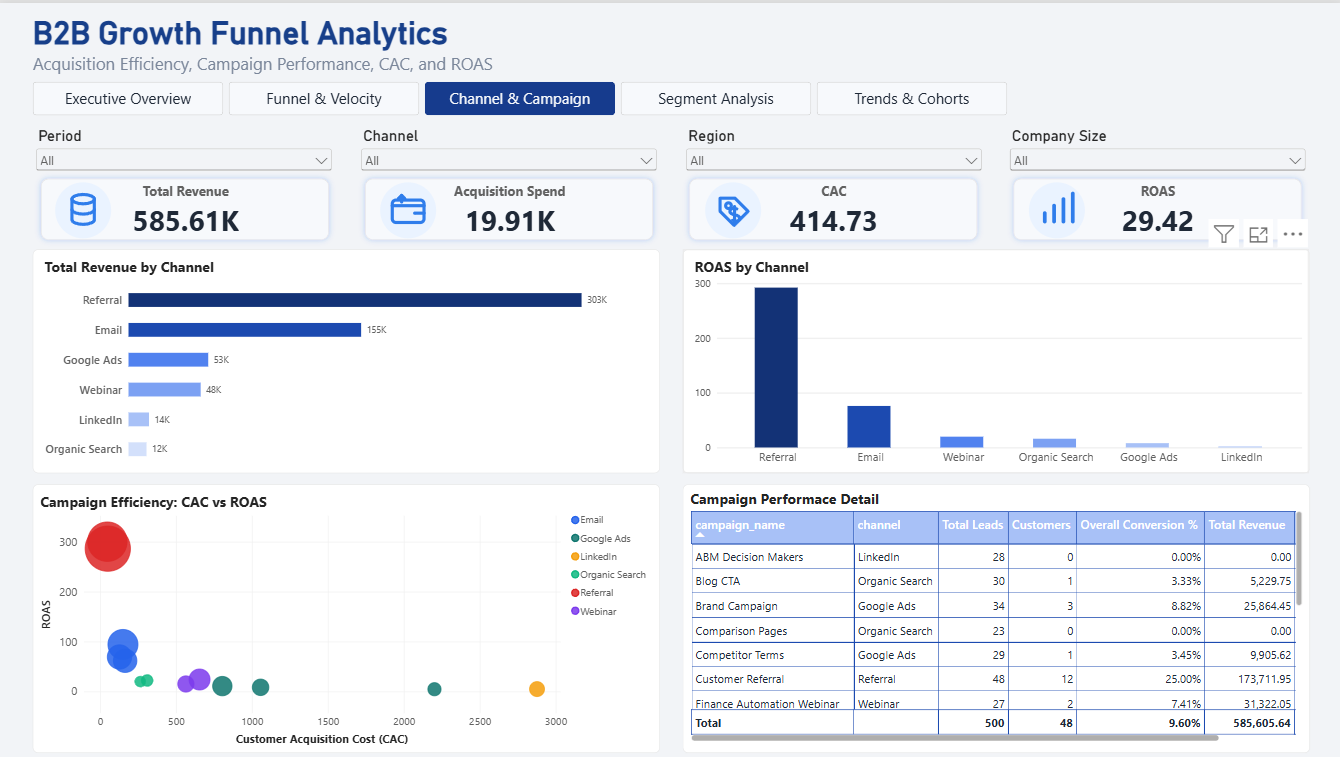

Layout of this report page (visuals, bound fields, positions):
{"tool":"powerbi","page":{"name":"Channel & Campaign","canvas":[1920,1080],"ordinal":2},"visuals":[{"type":"slicer","fields":{"Values":["Date.Year Month"]},"box":[48,176,432,80],"z":0},{"type":"slicer","fields":{"Values":["Lead Funnel.channel"]},"box":[512,176,432,80],"z":1000},{"type":"slicer","fields":{"Values":["Lead Funnel.region"]},"box":[976,176,432,80],"z":2000},{"type":"slicer","fields":{"Values":["Lead Funnel.company_size"]},"box":[1440,176,432,80],"z":3000},{"type":"textbox","title":"B2B Growth Funnel Analytics","box":[48,16,752,112],"z":4000},{"type":"pageNavigator","box":[48,112,1392,48],"z":5000},{"type":"cardVisual","fields":{"Data":["Lead Funnel.Total Revenue","Lead Funnel.Acquisition Spend","Lead Funnel.CAC","Lead Funnel.ROAS"]},"box":[48,240,1824,112],"z":6000},{"type":"clusteredBarChart","title":"Total Revenue by Channel","fields":{"Category":["Lead Funnel.channel"],"Y":["Lead Funnel.Total Revenue"]},"box":[48,352,896,320],"z":7000},{"type":"clusteredColumnChart","title":"ROAS by Channel","fields":{"Category":["Lead Funnel.channel"],"Y":["Lead Funnel.ROAS"]},"box":[976,352,896,320],"z":8000},{"type":"scatterChart","title":"Campaign Efficiency: CAC vs ROAS","fields":{"Category":["Lead Funnel.campaign_name"],"Series":["Lead Funnel.channel"],"Size":["Lead Funnel.Total Revenue"],"X":["Lead Funnel.CAC"],"Y":["Lead Funnel.ROAS"]},"box":[48,688,896,384],"z":9000},{"type":"tableEx","title":"Campaign Performace Detail","fields":{"Values":["Lead Funnel.campaign_name","Lead Funnel.channel","Lead Funnel.Total Leads","Lead Funnel.Customers","Lead Funnel.Overall Conversion %","Lead Funnel.Total Revenue","Lead Funnel.CAC","Lead Funnel.ROAS"]},"box":[976,688,896,384],"z":10000},{"type":"image","box":[1440,248,144,96],"z":10003},{"type":"image","box":[976,248,144,96],"z":10004},{"type":"image","box":[512,248,144,96],"z":10005},{"type":"image","box":[48,248,144,96],"z":10006}]}

Visuals, with their boxes in screenshot pixels (x1, y1, x2, y2), scaled from the page's 1920x1080 canvas onto the 1340x757 screenshot:
slicer - Date.Year Month: x1=34 y1=123 x2=335 y2=179
slicer - Lead Funnel.channel: x1=357 y1=123 x2=659 y2=179
slicer - Lead Funnel.region: x1=681 y1=123 x2=983 y2=179
slicer - Lead Funnel.company_size: x1=1005 y1=123 x2=1306 y2=179
"B2B Growth Funnel Analytics" textbox: x1=34 y1=11 x2=558 y2=90
pageNavigator: x1=34 y1=79 x2=1005 y2=112
cardVisual - Lead Funnel.Total Revenue x Lead Funnel.Acquisition Spend: x1=34 y1=168 x2=1306 y2=247
"Total Revenue by Channel" clusteredBarChart: x1=34 y1=247 x2=659 y2=471
"ROAS by Channel" clusteredColumnChart: x1=681 y1=247 x2=1306 y2=471
"Campaign Efficiency: CAC vs ROAS" scatterChart: x1=34 y1=482 x2=659 y2=751
"Campaign Performace Detail" tableEx: x1=681 y1=482 x2=1306 y2=751
image: x1=1005 y1=174 x2=1106 y2=241
image: x1=681 y1=174 x2=782 y2=241
image: x1=357 y1=174 x2=458 y2=241
image: x1=34 y1=174 x2=134 y2=241
